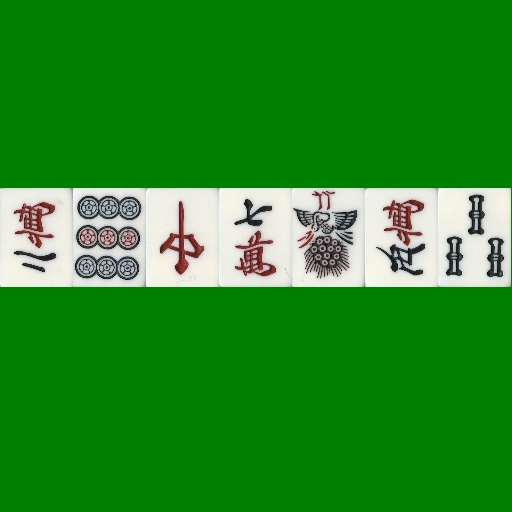1s: (292, 188, 365, 287)
2m: (0, 188, 73, 287)
3s: (438, 188, 511, 287)
5m: (365, 188, 438, 287)
7m: (219, 188, 292, 287)
9p: (73, 188, 146, 287)
tyun: (146, 188, 219, 287)
